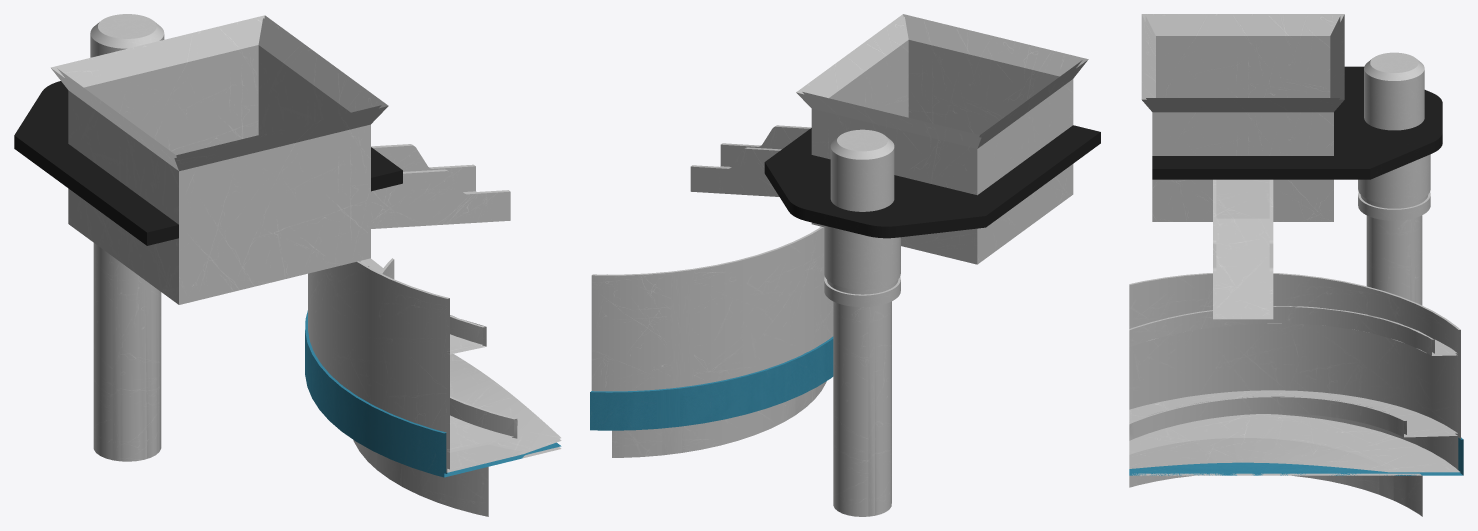
Rendered from TightenerStation_Cube05.glb.
3 views of the same model, side by side, from view 1: azimuth 30°, elevation 25°; view 2: azimuth 150°, elevation 25°; view 3: azimuth 270°, elevation 25° (orthographic). The views are drawn at different scales.
Visible parts, largest first — view 1: color-2.003; view 2: color-2.003; view 3: color-2.003.
Part boxes in pixels (box(x1,y1,x2,y2)): color-2.003: box(14, 14, 561, 516); color-2.003: box(590, 14, 1100, 516); color-2.003: box(1129, 14, 1463, 516).
Size of the model in its own units: 0.3133 by 0.32 by 0.2763.
3 materials, 3 textured.
